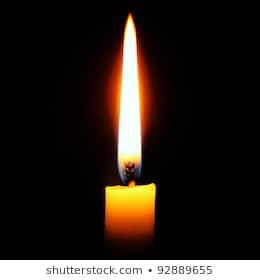fire: (113, 12, 144, 178)
